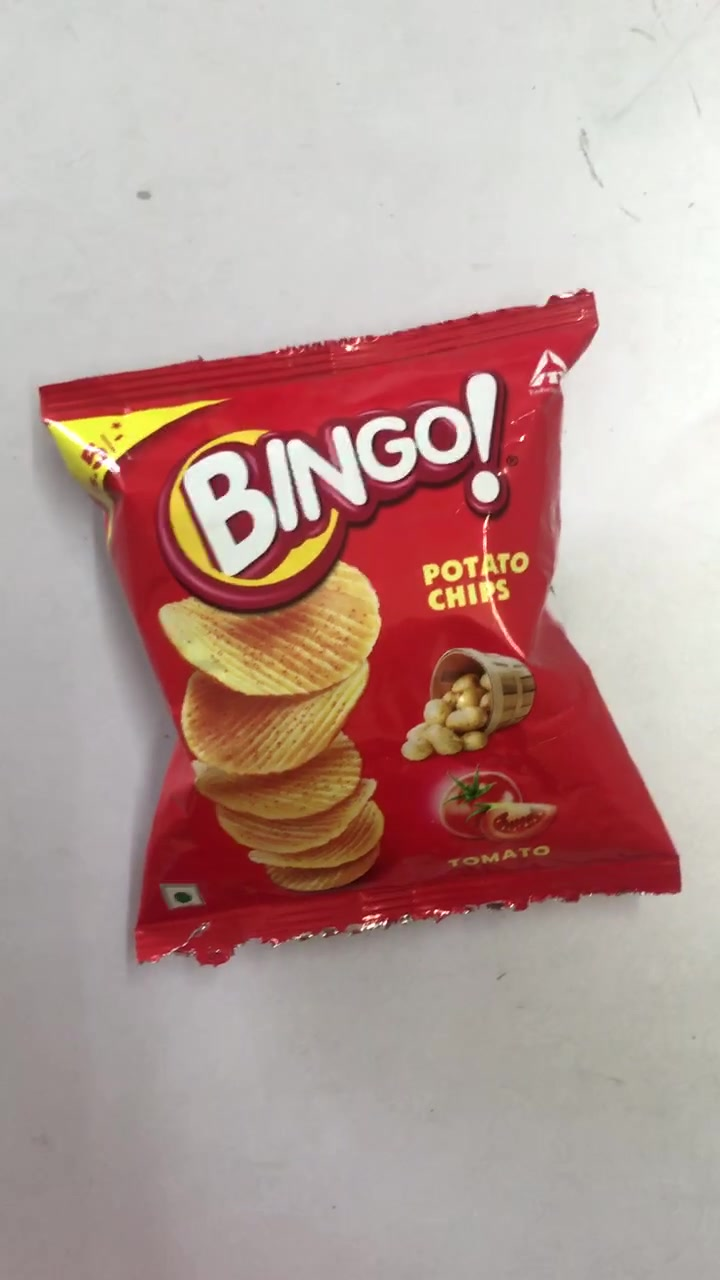Bingo: (44, 287, 680, 962)
